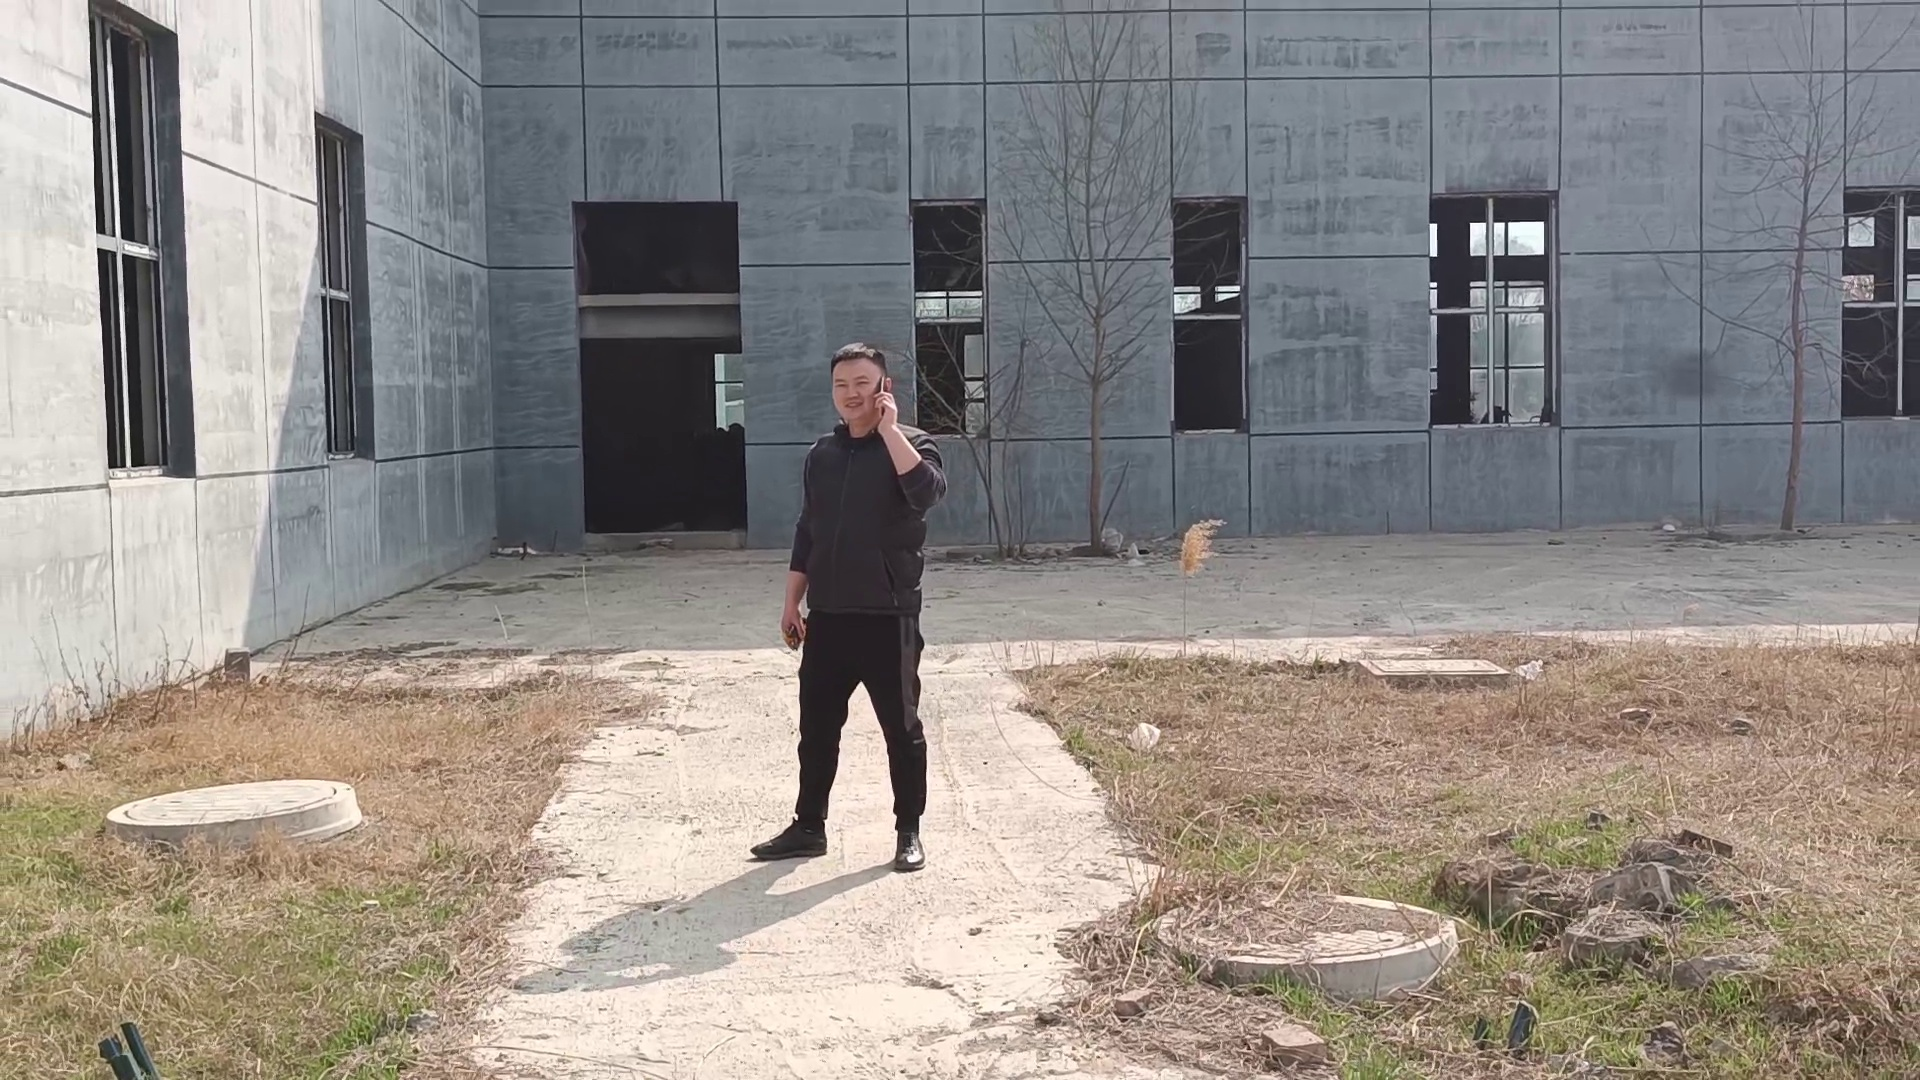phone: (831, 340, 901, 442)
